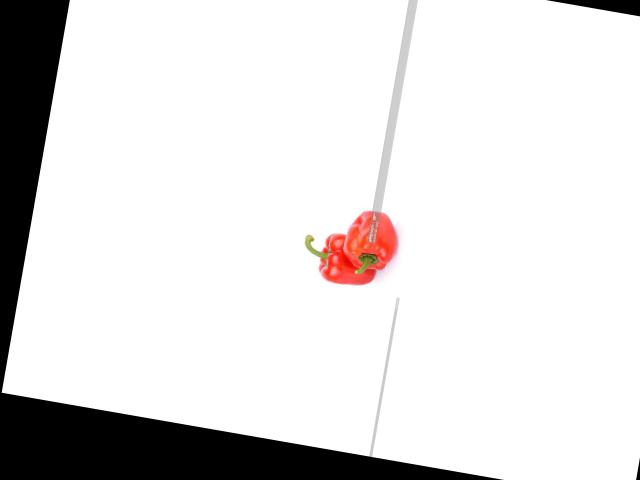bell_pepper: (335, 198, 402, 278)
